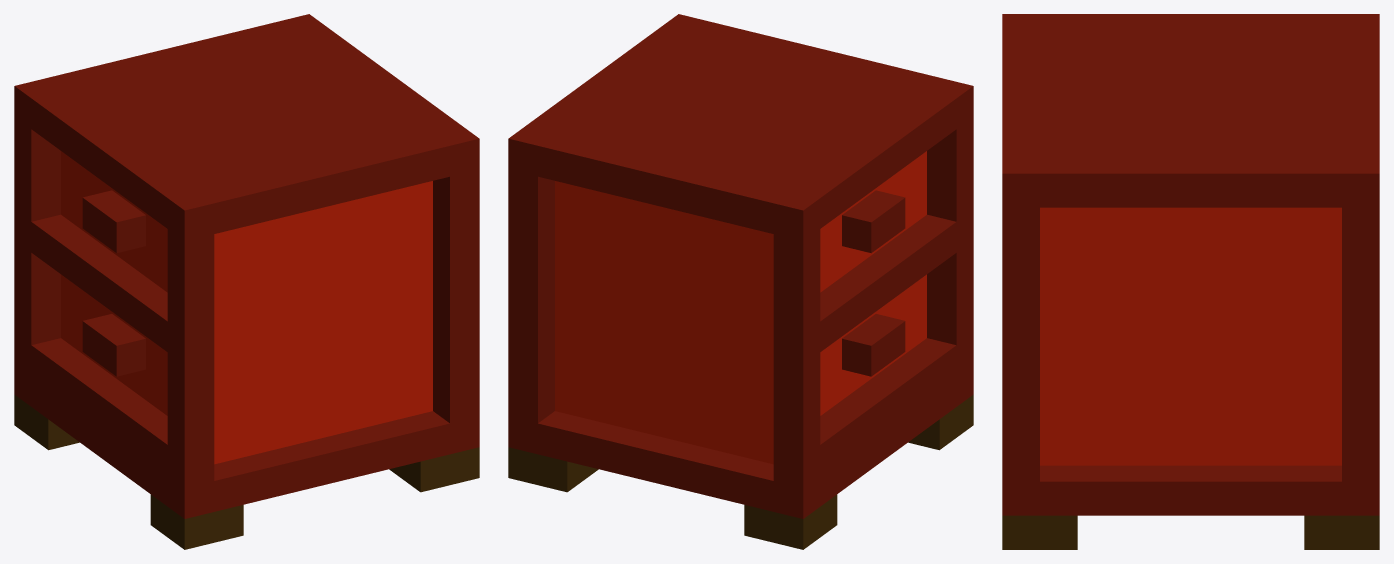
Rendered from NightStand.obj.
3 renders of one model, left to right at view 1: azimuth 30°, elevation 25°; view 2: azimuth 150°, elevation 25°; view 3: azimuth 270°, elevation 25°, orthographic. The views are drawn at different scales.
Visible parts, largest first — view 1: NightStand; view 2: NightStand; view 3: NightStand.
Part boxes in pixels (x1,y1,x2,y2): NightStand: (14,14,479,549); NightStand: (508,14,973,549); NightStand: (1002,14,1379,549).
Bounding box in the file's own units: 10 × 11 × 10.
Materials: 1 (1 with a texture image).
